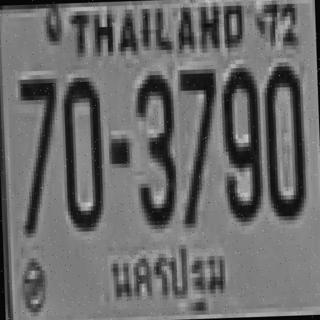N00: (261, 62, 304, 217), (60, 75, 101, 226)
N03: (133, 70, 176, 225)
N07: (17, 74, 58, 233), (177, 65, 218, 224), (17, 74, 56, 184), (177, 65, 216, 174)
N09: (220, 63, 261, 218)
P28: (103, 232, 230, 320)
